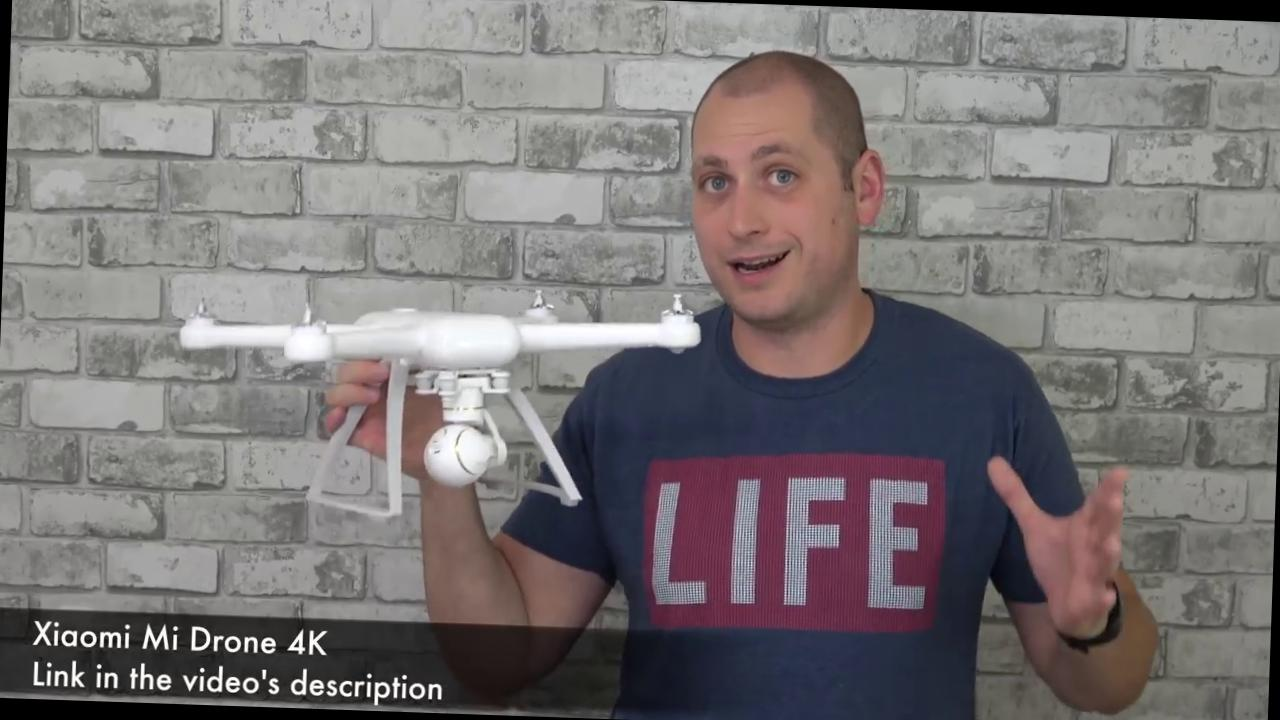drone: (160, 265, 702, 395)
